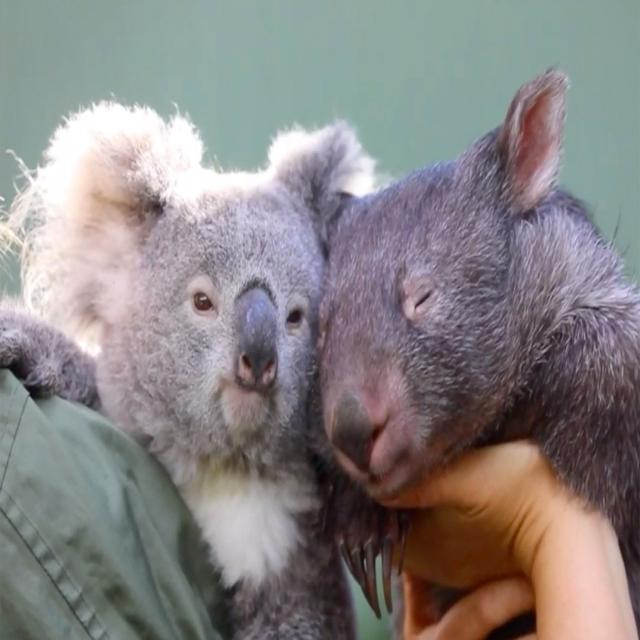wombats: (319, 69, 640, 631)
